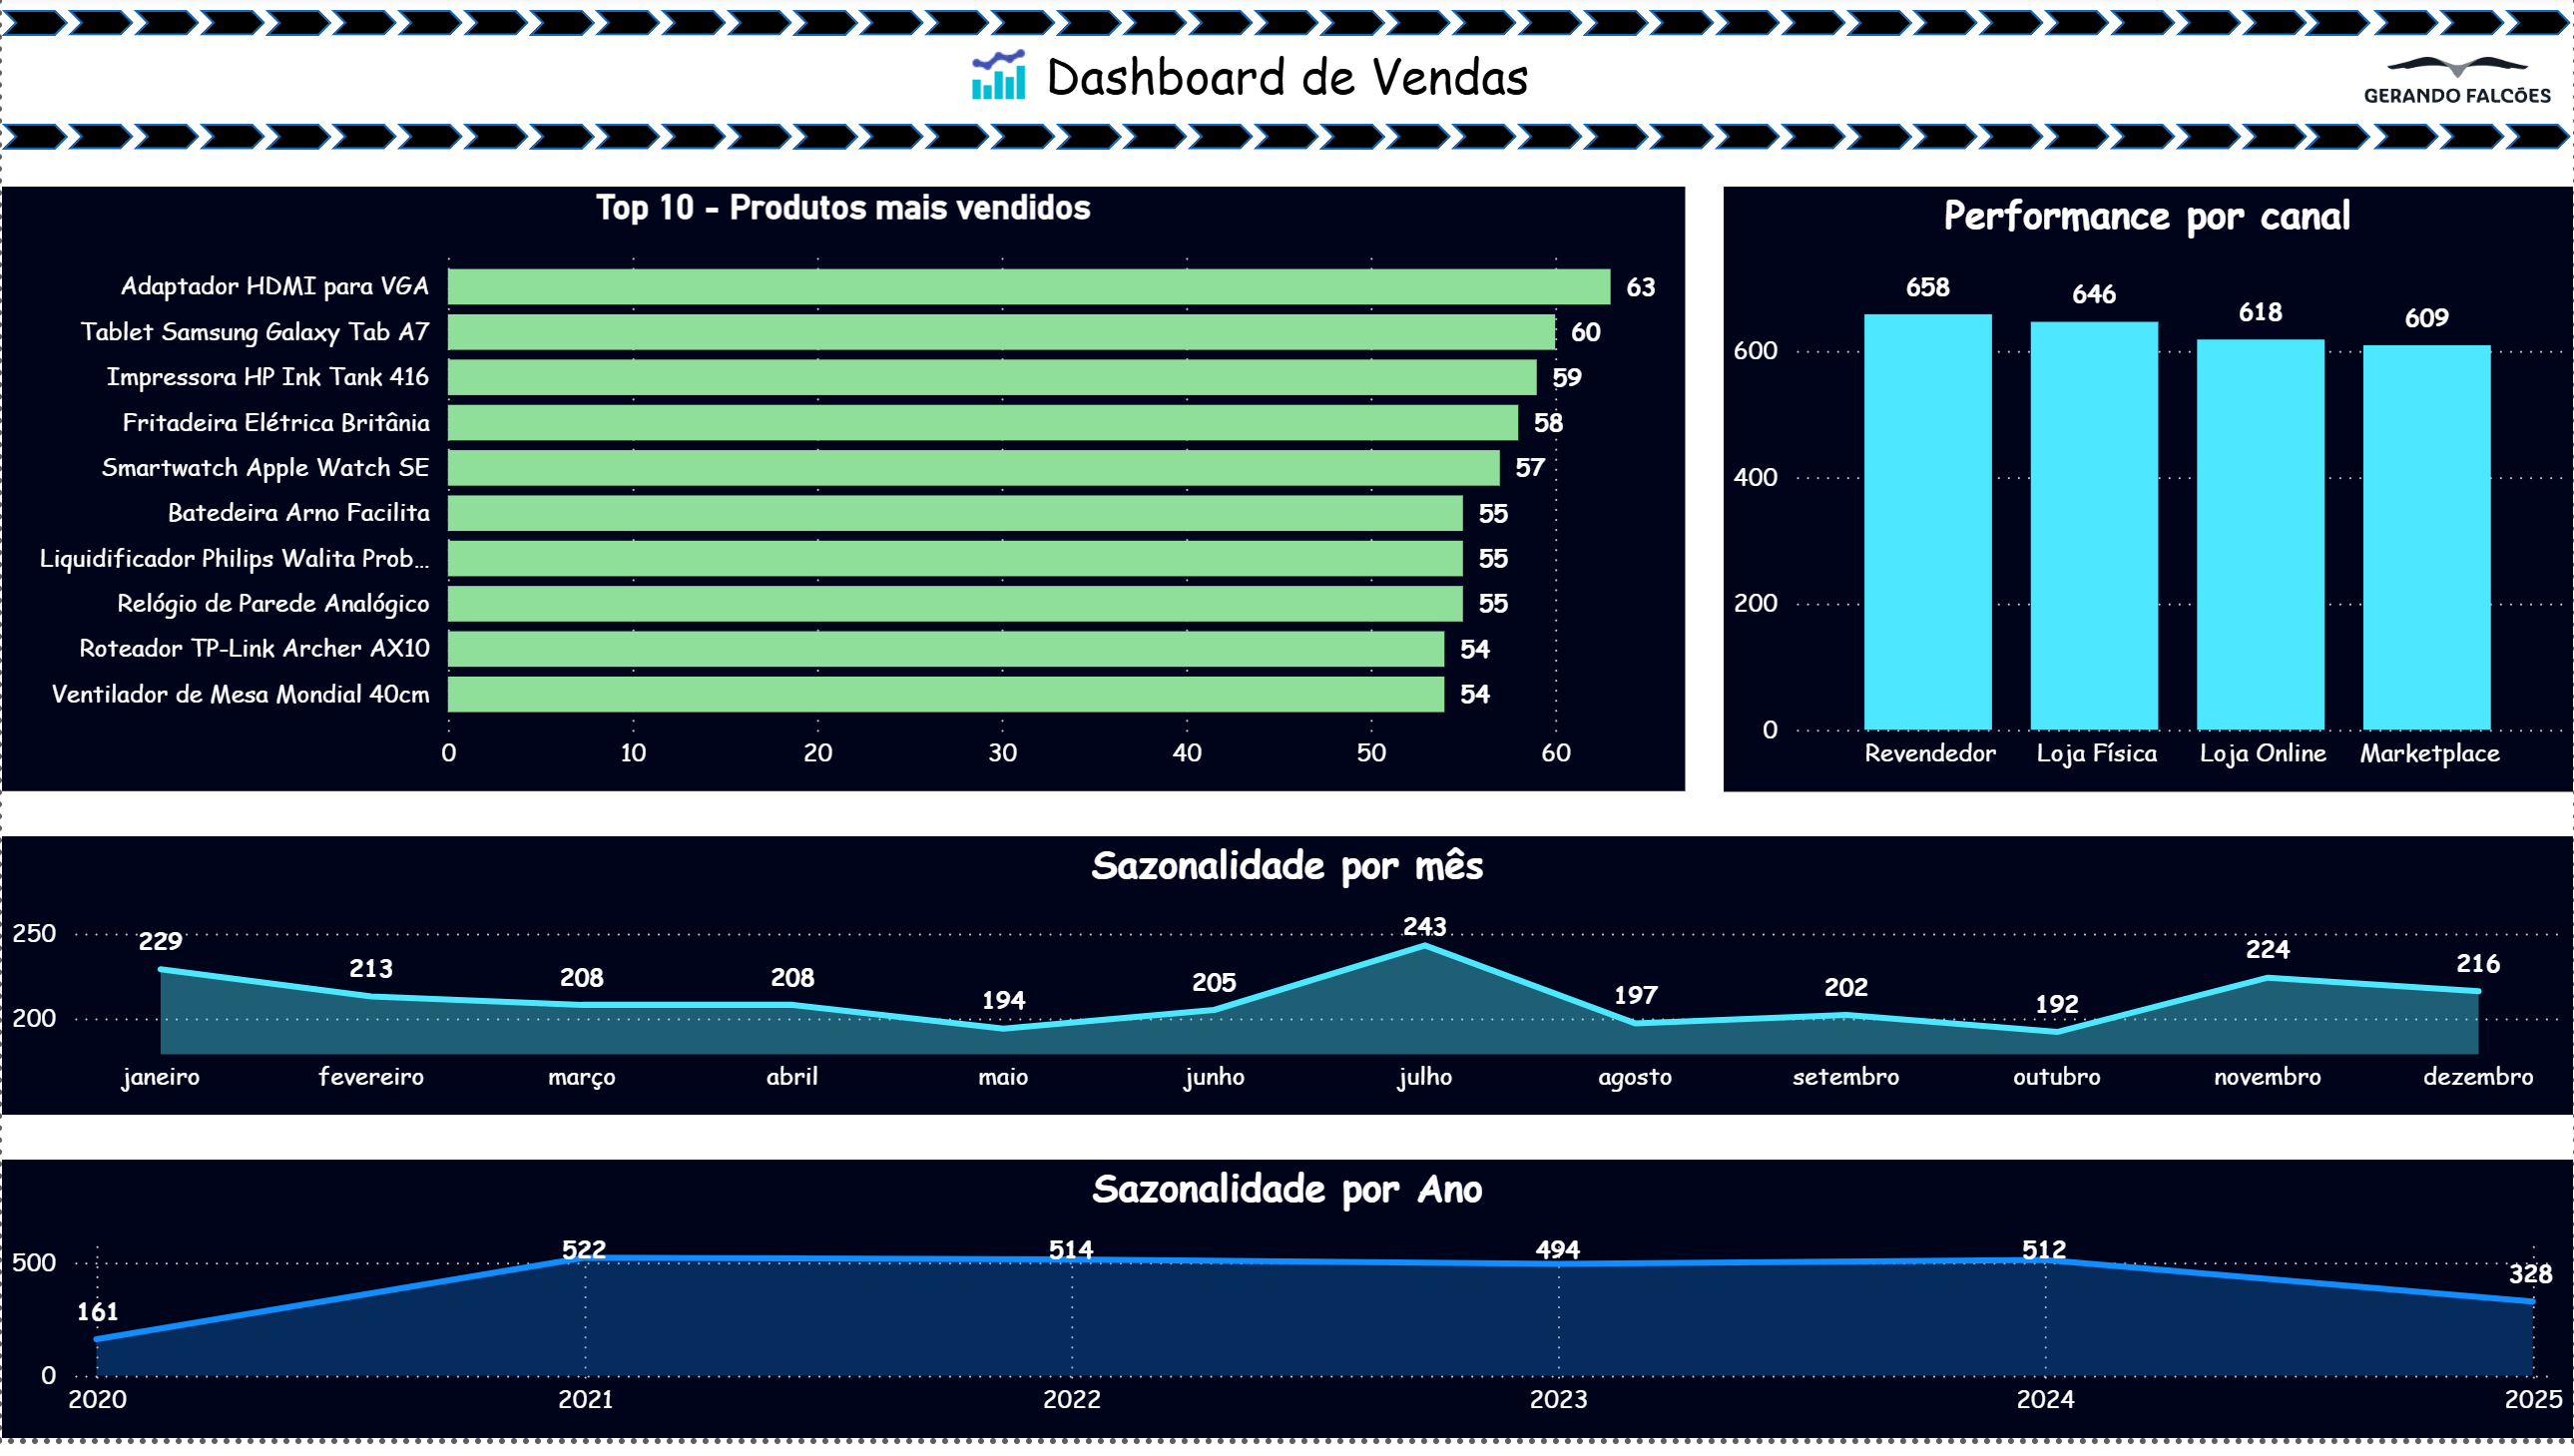

This screenshot's page, from the dashboard's own definition file:
{"tool":"powerbi","page":{"name":"Dashboard","canvas":[1280,720],"ordinal":0},"visuals":[{"type":"shape","box":[0,9,32.9,12.9],"z":0,"group":"g2"},{"type":"shape","box":[0,14.3,1280,52.9],"z":0},{"type":"shape","box":[0,65.8,32.9,12.9],"z":0,"group":"g1"},{"type":"shape","box":[32.9,9,32.6,12.6],"z":1000,"group":"g2"},{"type":"shape","box":[32.9,65.8,32.6,12.6],"z":1000,"group":"g1"},{"type":"barChart","title":"Top 10 - Produtos mais vendidos","fields":{"Category":["top_10_produtos.nome_produto"],"Y":["Sum(top_10_produtos.quantidade_vendida)"]},"box":[0,97,838,301],"z":1000},{"type":"shape","box":[65.7,9,32.6,12.6],"z":2000,"group":"g2"},{"type":"shape","box":[65.7,65.8,32.6,12.6],"z":2000,"group":"g1"},{"type":"clusteredColumnChart","title":"Performance por canal","fields":{"Category":["vendas_por_canal.canal_venda"],"Y":["Sum(vendas_por_canal.quantidade_vendida)"]},"box":[857.1,97.1,422.9,301.4],"z":2000},{"type":"shape","box":[98.4,9,32.6,12.6],"z":3000,"group":"g2"},{"type":"image","box":[1164.3,15.7,115.7,52.9],"z":3000},{"type":"shape","box":[98.4,65.8,32.6,12.6],"z":3000,"group":"g1"},{"type":"shape","box":[131.1,9.1,32.9,12.9],"z":4000,"group":"g2"},{"type":"shape","box":[131.1,65.9,32.9,12.9],"z":4000,"group":"g1"},{"type":"areaChart","title":"Sazonalidade por Ano","fields":{"Category":["vendas_por_mes.ano_mes.Variation.Hierarquia de datas.Ano"],"Y":["Sum(vendas_por_mes.quantidade_vendida)"]},"box":[0,581.4,1280,138.6],"z":4000},{"type":"shape","box":[164.1,9.2,32.6,12.6],"z":5000,"group":"g2"},{"type":"shape","box":[164.1,66,32.6,12.6],"z":5000,"group":"g1"},{"type":"areaChart","title":"Sazonalidade por mês","fields":{"Y":["Sum(vendas_por_mes.quantidade_vendida)"],"Category":["vendas_por_mes.ano_mes.Variation.Hierarquia de datas.Mês"]},"box":[0,420,1280,138.6],"z":5000},{"type":"shape","box":[196.8,9.2,32.6,12.6],"z":6000,"group":"g2"},{"type":"group","id":"g1","title":"Grupo 1","box":[0,65.4,1278.1,13.4],"z":6000},{"type":"shape","box":[196.8,66,32.6,12.6],"z":6000,"group":"g1"},{"type":"shape","box":[229.5,9.2,32.6,12.6],"z":7000,"group":"g2"},{"type":"image","box":[471.4,20,50,42.9],"z":7000},{"type":"shape","box":[229.5,66,32.6,12.6],"z":7000,"group":"g1"},{"type":"group","id":"g2","title":"Grupo 1","box":[0,8.6,1278.6,12.9],"z":8000},{"type":"shape","box":[262.2,8.6,32.9,12.9],"z":8000,"group":"g2"},{"type":"shape","box":[262.2,65.4,32.9,12.9],"z":8000,"group":"g1"},{"type":"shape","box":[295.2,8.7,32.6,12.6],"z":9000,"group":"g2"},{"type":"shape","box":[295.2,65.5,32.6,12.6],"z":9000,"group":"g1"},{"type":"shape","box":[327.9,8.7,32.6,12.6],"z":10000,"group":"g2"},{"type":"shape","box":[327.9,65.5,32.6,12.6],"z":10000,"group":"g1"},{"type":"shape","box":[360.6,8.7,32.6,12.6],"z":11000,"group":"g2"},{"type":"shape","box":[360.6,65.5,32.6,12.6],"z":11000,"group":"g1"},{"type":"shape","box":[393.3,8.8,32.9,12.9],"z":12000,"group":"g2"},{"type":"shape","box":[393.3,65.6,32.9,12.9],"z":12000,"group":"g1"},{"type":"shape","box":[426.3,8.9,32.6,12.6],"z":13000,"group":"g2"},{"type":"shape","box":[426.3,65.7,32.6,12.6],"z":13000,"group":"g1"},{"type":"shape","box":[459,8.9,32.6,12.6],"z":14000,"group":"g2"},{"type":"shape","box":[459,65.7,32.6,12.6],"z":14000,"group":"g1"},{"type":"shape","box":[491.7,8.9,32.6,12.6],"z":15000,"group":"g2"},{"type":"shape","box":[491.7,65.7,32.6,12.6],"z":15000,"group":"g1"},{"type":"shape","box":[524.5,9,32.9,12.9],"z":16000,"group":"g2"},{"type":"shape","box":[524.5,65.8,32.9,12.9],"z":16000,"group":"g1"},{"type":"shape","box":[557.4,9,32.6,12.6],"z":17000,"group":"g2"},{"type":"shape","box":[557.4,65.8,32.6,12.6],"z":17000,"group":"g1"},{"type":"shape","box":[590.1,9,32.6,12.6],"z":18000,"group":"g2"},{"type":"shape","box":[590.1,65.8,32.6,12.6],"z":18000,"group":"g1"},{"type":"shape","box":[622.8,9,32.6,12.6],"z":19000,"group":"g2"},{"type":"shape","box":[622.8,65.8,32.6,12.6],"z":19000,"group":"g1"},{"type":"shape","box":[655.6,9.1,32.9,12.9],"z":20000,"group":"g2"},{"type":"shape","box":[655.6,65.9,32.9,12.9],"z":20000,"group":"g1"},{"type":"shape","box":[688.5,9.2,32.6,12.6],"z":21000,"group":"g2"},{"type":"shape","box":[688.5,66,32.6,12.6],"z":21000,"group":"g1"},{"type":"shape","box":[721.2,9.2,32.6,12.6],"z":22000,"group":"g2"},{"type":"shape","box":[721.2,66,32.6,12.6],"z":22000,"group":"g1"},{"type":"shape","box":[754,9.2,32.6,12.6],"z":23000,"group":"g2"},{"type":"shape","box":[754,66,32.6,12.6],"z":23000,"group":"g1"},{"type":"shape","box":[786.7,8.6,32.9,12.9],"z":24000,"group":"g2"},{"type":"shape","box":[786.7,65.4,32.9,12.9],"z":24000,"group":"g1"},{"type":"shape","box":[819.6,8.7,32.6,12.6],"z":25000,"group":"g2"},{"type":"shape","box":[819.6,65.5,32.6,12.6],"z":25000,"group":"g1"},{"type":"shape","box":[852.4,8.7,32.6,12.6],"z":26000,"group":"g2"},{"type":"shape","box":[852.4,65.5,32.6,12.6],"z":26000,"group":"g1"},{"type":"shape","box":[885.1,8.7,32.6,12.6],"z":27000,"group":"g2"},{"type":"shape","box":[885.1,65.5,32.6,12.6],"z":27000,"group":"g1"},{"type":"shape","box":[917.8,8.8,32.9,12.9],"z":28000,"group":"g2"},{"type":"shape","box":[917.8,65.6,32.9,12.9],"z":28000,"group":"g1"},{"type":"shape","box":[950.7,8.9,32.6,12.6],"z":29000,"group":"g2"},{"type":"shape","box":[950.7,65.7,32.6,12.6],"z":29000,"group":"g1"},{"type":"shape","box":[983.5,8.9,32.6,12.6],"z":30000,"group":"g2"},{"type":"shape","box":[983.5,65.7,32.6,12.6],"z":30000,"group":"g1"},{"type":"shape","box":[1016.2,8.9,32.6,12.6],"z":31000,"group":"g2"},{"type":"shape","box":[1016.2,65.7,32.6,12.6],"z":31000,"group":"g1"},{"type":"shape","box":[1048.9,8.9,32.6,12.6],"z":32000,"group":"g2"},{"type":"shape","box":[1048.9,65.7,32.6,12.6],"z":32000,"group":"g1"},{"type":"shape","box":[1081.6,8.9,32.6,12.6],"z":33000,"group":"g2"},{"type":"shape","box":[1081.6,65.7,32.6,12.6],"z":33000,"group":"g1"},{"type":"shape","box":[1114.4,8.9,32.6,12.6],"z":34000,"group":"g2"},{"type":"shape","box":[1114.4,65.7,32.6,12.6],"z":34000,"group":"g1"},{"type":"shape","box":[1147.1,9,32.9,12.9],"z":35000,"group":"g2"},{"type":"shape","box":[1147.1,65.8,32.9,12.9],"z":35000,"group":"g1"},{"type":"shape","box":[1180,9.1,32.6,12.6],"z":36000,"group":"g2"},{"type":"shape","box":[1180,65.9,32.6,12.6],"z":36000,"group":"g1"},{"type":"shape","box":[1212.7,9.1,32.6,12.6],"z":37000,"group":"g2"},{"type":"shape","box":[1212.7,65.9,32.6,12.6],"z":37000,"group":"g1"},{"type":"shape","box":[1245.5,9.1,32.6,12.6],"z":38000,"group":"g2"},{"type":"shape","box":[1245.5,65.9,32.6,12.6],"z":38000,"group":"g1"}]}

Visuals, with their boxes in screenshot pixels (x1, y1, x2, y2), scaled from the page's 1280x720 canvas onto the 2574x1456 screenshot:
shape: <bbox>0, 18, 66, 44</bbox>
shape: <bbox>0, 29, 2573, 136</bbox>
shape: <bbox>0, 133, 66, 159</bbox>
shape: <bbox>66, 18, 132, 44</bbox>
shape: <bbox>66, 133, 132, 159</bbox>
"Top 10 - Produtos mais vendidos" barChart: <bbox>0, 197, 1685, 805</bbox>
shape: <bbox>132, 18, 198, 44</bbox>
shape: <bbox>132, 133, 198, 159</bbox>
"Performance por canal" clusteredColumnChart: <bbox>1724, 197, 2573, 806</bbox>
shape: <bbox>198, 18, 263, 44</bbox>
image: <bbox>2341, 32, 2573, 139</bbox>
shape: <bbox>198, 133, 263, 159</bbox>
shape: <bbox>263, 18, 329, 45</bbox>
shape: <bbox>263, 134, 329, 160</bbox>
"Sazonalidade por Ano" areaChart: <bbox>0, 1176, 2573, 1455</bbox>
shape: <bbox>330, 19, 395, 44</bbox>
shape: <bbox>330, 134, 395, 159</bbox>
"Sazonalidade por mês" areaChart: <bbox>0, 849, 2573, 1130</bbox>
shape: <bbox>396, 19, 461, 44</bbox>
"Grupo 1" group: <bbox>0, 133, 2570, 160</bbox>
shape: <bbox>396, 134, 461, 159</bbox>
shape: <bbox>461, 19, 527, 44</bbox>
image: <bbox>948, 41, 1049, 127</bbox>
shape: <bbox>461, 134, 527, 159</bbox>
"Grupo 1" group: <bbox>0, 17, 2571, 44</bbox>
shape: <bbox>527, 17, 594, 44</bbox>
shape: <bbox>527, 133, 594, 159</bbox>
shape: <bbox>594, 18, 659, 43</bbox>
shape: <bbox>594, 133, 659, 158</bbox>
shape: <bbox>660, 18, 725, 43</bbox>
shape: <bbox>660, 133, 725, 158</bbox>
shape: <bbox>726, 18, 790, 43</bbox>
shape: <bbox>726, 133, 790, 158</bbox>
shape: <bbox>790, 18, 857, 44</bbox>
shape: <bbox>790, 133, 857, 159</bbox>
shape: <bbox>857, 18, 923, 44</bbox>
shape: <bbox>857, 133, 923, 159</bbox>
shape: <bbox>923, 18, 988, 44</bbox>
shape: <bbox>923, 133, 988, 159</bbox>
shape: <bbox>989, 18, 1054, 44</bbox>
shape: <bbox>989, 133, 1054, 159</bbox>
shape: <bbox>1055, 18, 1121, 44</bbox>
shape: <bbox>1055, 133, 1121, 159</bbox>
shape: <bbox>1121, 18, 1187, 44</bbox>
shape: <bbox>1121, 133, 1187, 159</bbox>
shape: <bbox>1187, 18, 1253, 44</bbox>
shape: <bbox>1187, 133, 1253, 159</bbox>
shape: <bbox>1253, 18, 1318, 44</bbox>
shape: <bbox>1253, 133, 1318, 159</bbox>
shape: <bbox>1318, 18, 1384, 45</bbox>
shape: <bbox>1318, 134, 1384, 160</bbox>
shape: <bbox>1384, 19, 1450, 44</bbox>
shape: <bbox>1384, 134, 1450, 159</bbox>
shape: <bbox>1450, 19, 1516, 44</bbox>
shape: <bbox>1450, 134, 1516, 159</bbox>
shape: <bbox>1516, 19, 1582, 44</bbox>
shape: <bbox>1516, 134, 1582, 159</bbox>
shape: <bbox>1582, 17, 1648, 44</bbox>
shape: <bbox>1582, 133, 1648, 159</bbox>
shape: <bbox>1648, 18, 1714, 43</bbox>
shape: <bbox>1648, 133, 1714, 158</bbox>
shape: <bbox>1714, 18, 1780, 43</bbox>
shape: <bbox>1714, 133, 1780, 158</bbox>
shape: <bbox>1780, 18, 1845, 43</bbox>
shape: <bbox>1780, 133, 1845, 158</bbox>
shape: <bbox>1845, 18, 1912, 44</bbox>
shape: <bbox>1845, 133, 1912, 159</bbox>
shape: <bbox>1912, 18, 1977, 44</bbox>
shape: <bbox>1912, 133, 1977, 159</bbox>
shape: <bbox>1978, 18, 2043, 44</bbox>
shape: <bbox>1978, 133, 2043, 159</bbox>
shape: <bbox>2043, 18, 2109, 44</bbox>
shape: <bbox>2043, 133, 2109, 159</bbox>
shape: <bbox>2109, 18, 2175, 44</bbox>
shape: <bbox>2109, 133, 2175, 159</bbox>
shape: <bbox>2175, 18, 2241, 44</bbox>
shape: <bbox>2175, 133, 2241, 159</bbox>
shape: <bbox>2241, 18, 2307, 44</bbox>
shape: <bbox>2241, 133, 2307, 159</bbox>
shape: <bbox>2307, 18, 2373, 44</bbox>
shape: <bbox>2307, 133, 2373, 159</bbox>
shape: <bbox>2373, 18, 2438, 44</bbox>
shape: <bbox>2373, 134, 2438, 159</bbox>
shape: <bbox>2438, 18, 2504, 44</bbox>
shape: <bbox>2438, 134, 2504, 159</bbox>
shape: <bbox>2504, 18, 2570, 44</bbox>
shape: <bbox>2504, 134, 2570, 159</bbox>
